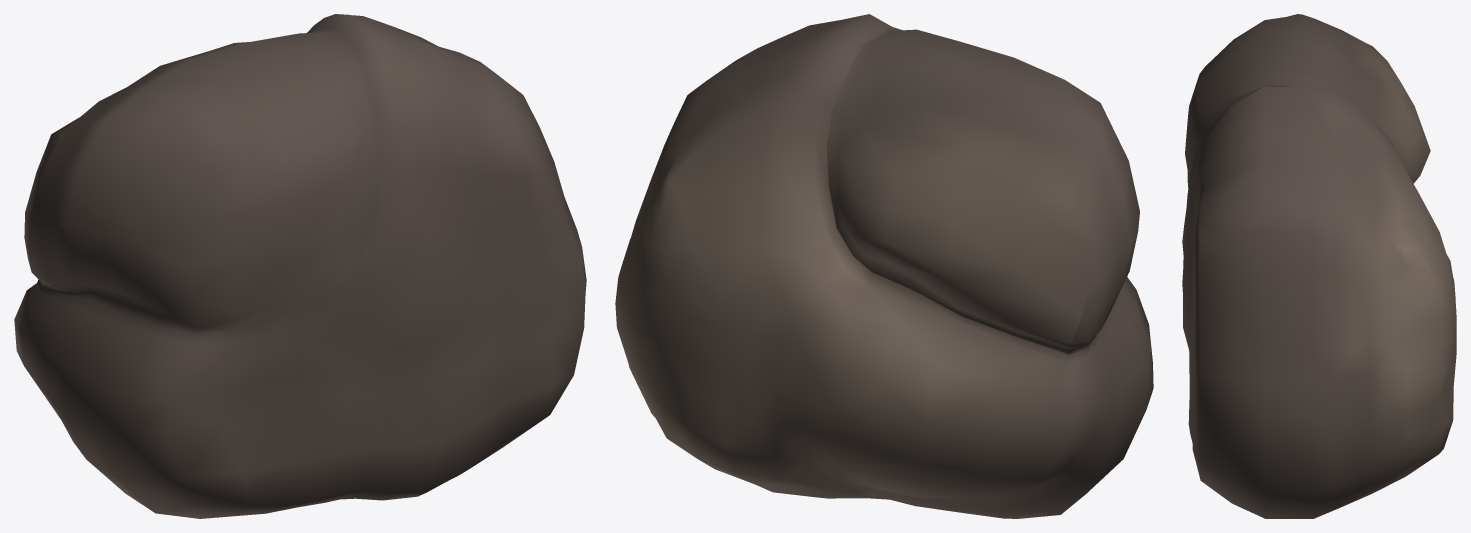
The model's file is RockMedium.006.glb.
The picture shows the model from 3 angles, left to right: view 1: azimuth 30°, elevation 25°; view 2: azimuth 150°, elevation 25°; view 3: azimuth 270°, elevation 25°; orthographic projection. The views are drawn at different scales.
Parts seen in each view (by area): view 1: RockMedium.006; view 2: RockMedium.006; view 3: RockMedium.006.
Boxes of the visible parts, bbox=[...] form: RockMedium.006: bbox=[14, 14, 586, 518]; RockMedium.006: bbox=[615, 14, 1153, 518]; RockMedium.006: bbox=[1182, 14, 1456, 518].
Bounding box in the file's own units: 391 × 345 × 213.
